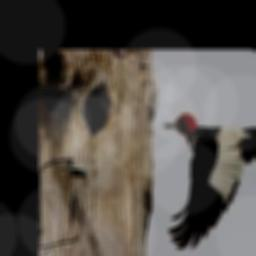Woodpecker: (165, 114, 256, 249)
